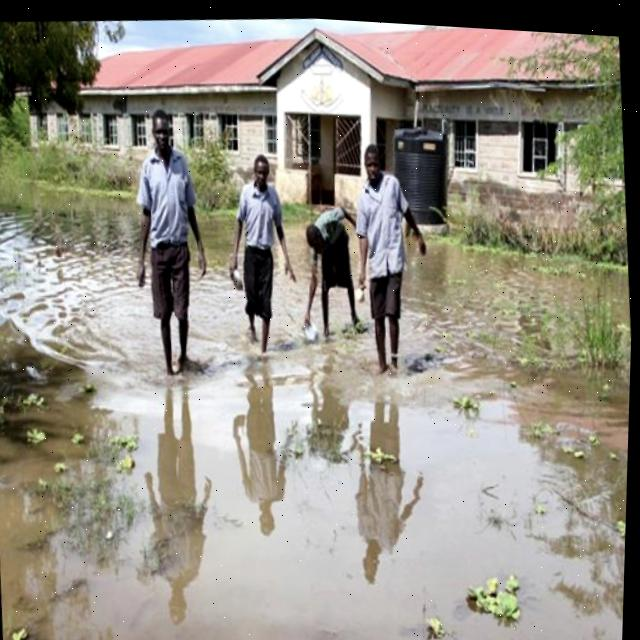civilian: (113, 90, 232, 383), (340, 131, 444, 400), (214, 141, 300, 361), (285, 171, 371, 354)
